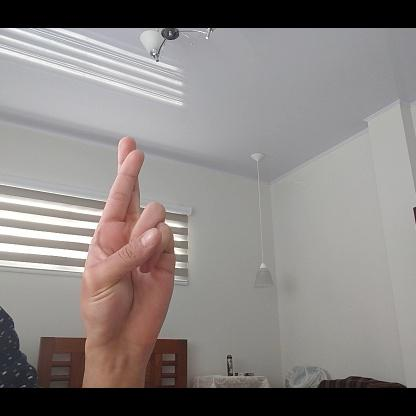R: (82, 133, 178, 352)
